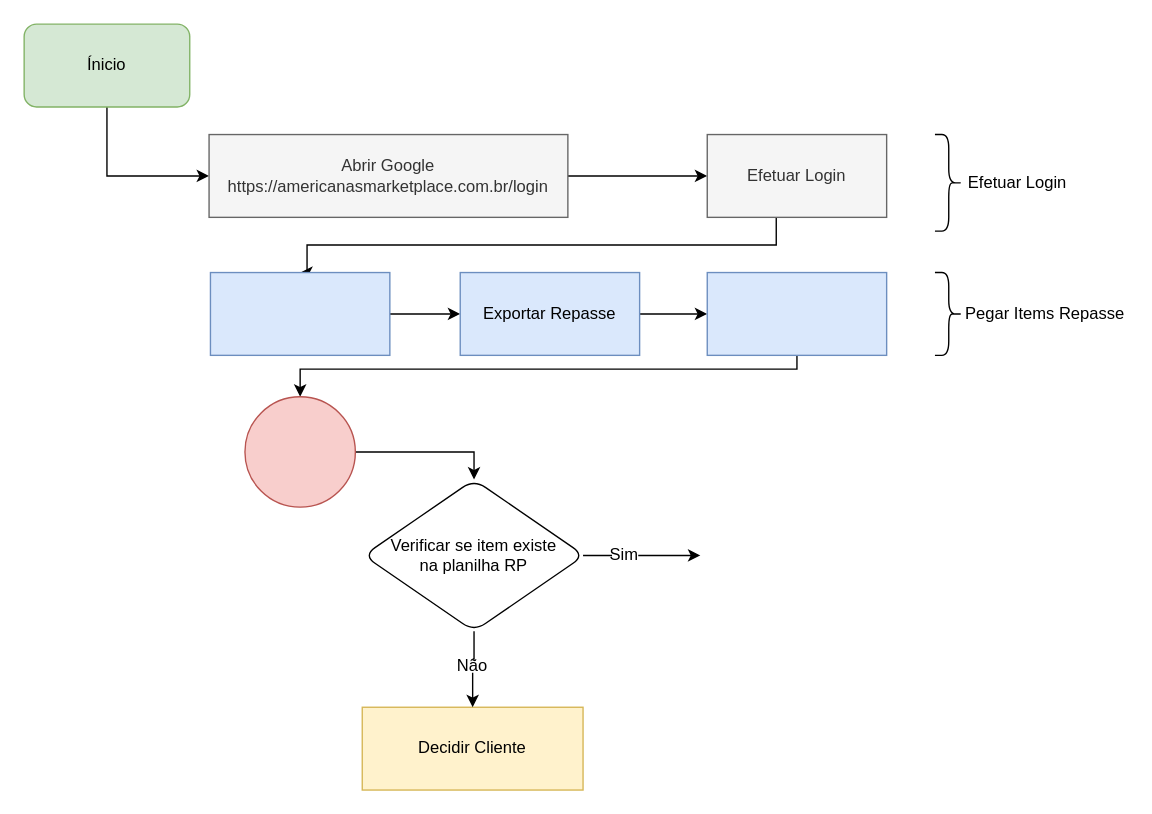
This 1152x814 diagram has some shape labels left out. The shapes that lost their labels are listed below. From the top down, each one's centre as x and y in pixels, then its label:
pixel 299 313: Acessar "Conta Corrente"
pixel 796 313: Pegar Todos os Items do Repasse
pixel 299 451: Varrer Repasse
